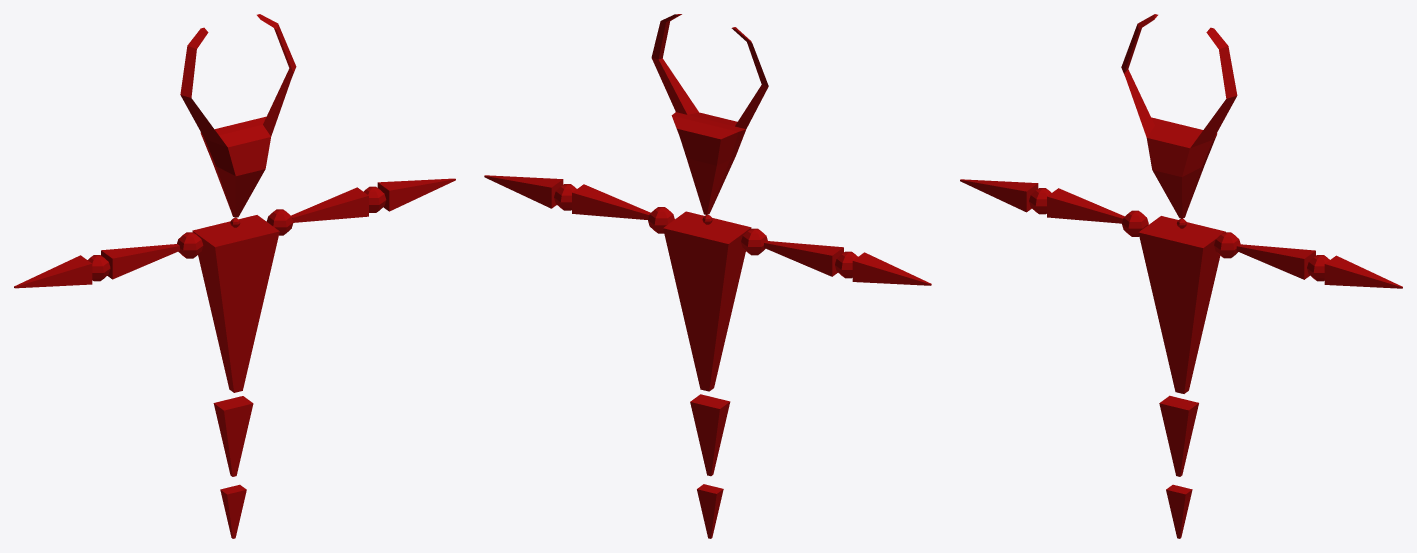
Rendered from testExport.fbx.
3 renders of one model, left to right at view 1: azimuth 30°, elevation 25°; view 2: azimuth 150°, elevation 25°; view 3: azimuth 330°, elevation 25°, orthographic.
Parts seen in each view (by area): view 1: Torso, Head, Leg01, LeftArm, RightArm, RightForarm, LeftForarm, Leg02, RightShoulder; view 2: Torso, Head, Leg01, LeftArm, RightArm, RightForarm, LeftForarm, Leg02, RightShoulder; view 3: Torso, Head, Leg01, RightArm, LeftArm, LeftForarm, RightForarm, Leg02, LeftShoulder.
Boxes of the visible parts, x1,y1,x2,y2 form: Torso: (192, 215, 279, 392); Head: (180, 14, 296, 217); Leg01: (213, 396, 253, 476); LeftArm: (291, 187, 368, 222); RightArm: (101, 244, 179, 279); RightForarm: (14, 255, 92, 288); LeftForarm: (377, 178, 455, 211); Leg02: (220, 484, 246, 538); RightShoulder: (177, 232, 203, 258); Torso: (663, 211, 751, 391); Head: (651, 14, 768, 214); Leg01: (690, 394, 730, 476); LeftArm: (572, 184, 650, 219); RightArm: (764, 241, 843, 276); RightForarm: (852, 252, 931, 285); LeftForarm: (484, 175, 563, 208); Leg02: (697, 484, 723, 538); RightShoulder: (741, 228, 767, 255); Torso: (1138, 216, 1225, 393); Head: (1121, 14, 1237, 218); Leg01: (1159, 395, 1198, 476); RightArm: (1047, 188, 1124, 223); LeftArm: (1236, 244, 1315, 279); LeftForarm: (1324, 255, 1402, 288); RightForarm: (960, 179, 1038, 212); Leg02: (1166, 484, 1192, 538); LeftShoulder: (1214, 232, 1240, 258).
Bounding box in the file's own units: 0.5979 × 0.6649 × 0.0615.
